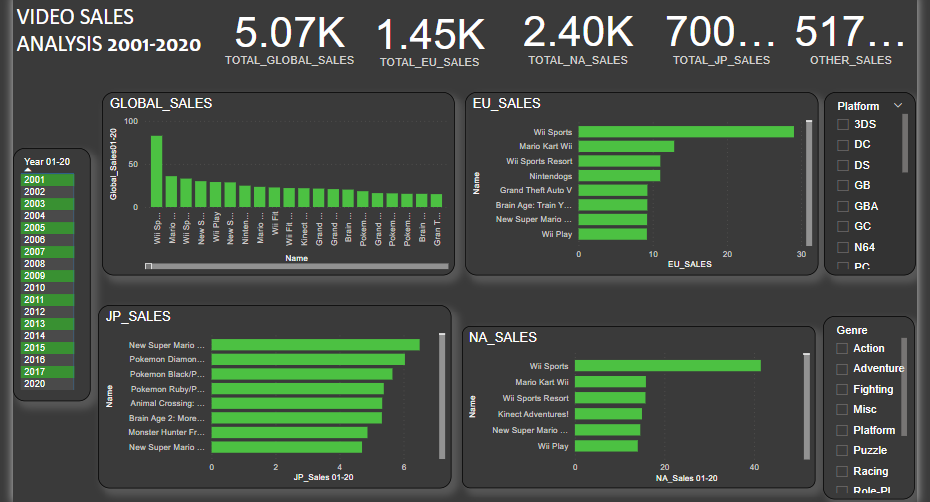

This screenshot's page, from the dashboard's own definition file:
{"tool":"powerbi","page":{"name":"sales2001-2020","canvas":[1280,720],"ordinal":1},"visuals":[{"type":"card","fields":{"Values":["Sum(vgsales2001-2020.EU_Sales01-20)"]},"box":[490.5,7.2,200.2,103],"z":0},{"type":"card","fields":{"Values":["Sum(vgsales2001-2020.JP_Sales 01-20)"]},"box":[912.4,0,183.1,110.1],"z":1000},{"type":"card","fields":{"Values":["Sum(vgsales2001-2020.NA_Sales 01-20)"]},"box":[690.8,0,221.7,110.1],"z":2000},{"type":"card","fields":{"Values":["Sum(vgsales2001-2020.Other_Sales 01-20)"]},"box":[1095.5,0,184.5,110.1],"z":3000},{"type":"card","fields":{"Values":["Sum(vgsales2001-2020.Global_Sales01-20)"]},"box":[291.8,0,200.2,111.6],"z":4000},{"type":"pivotTable","fields":{"Rows":["vgsales2001-2020.Year 01-20"]},"box":[0,217.4,110,359],"z":5000},{"type":"barChart","title":"EU_SALES ","fields":{"Category":["vgsales2001-2020.Name"],"Y":["Sum(vgsales2001-2020.EU_Sales01-20)"]},"box":[640.7,137.3,500.6,260.3],"z":6000},{"type":"clusteredColumnChart","title":" GLOBAL_SALES","fields":{"Category":["vgsales2001-2020.Name"],"Y":["Sum(vgsales2001-2020.Global_Sales01-20)"]},"box":[125.9,137.3,500,260],"z":7000},{"type":"barChart","title":"JP_SALES","fields":{"Category":["vgsales2001-2020.Name"],"Y":["Sum(vgsales2001-2020.JP_Sales 01-20)"]},"box":[120.1,439.1,500.6,260.3],"z":8000},{"type":"barChart","title":"NA_SALES","fields":{"Y":["Sum(vgsales2001-2020.NA_Sales 01-20)"],"Category":["vgsales2001-2020.Name"]},"box":[636.4,469.1,500.6,230.3],"z":9000},{"type":"slicer","fields":{"Values":["vgsales2001-2020.Platform"]},"box":[1149.9,137.3,130.1,260.3],"z":10000},{"type":"slicer","fields":{"Values":["vgsales2001-2020.Genre"]},"box":[1148.4,454.8,130.1,260.3],"z":11000},{"type":"textbox","box":[0,5.7,291.8,105.8],"z":12000}]}

Visuals, with their boxes on the page's 1280x720 design canvas (x1, y1, x2, y2). These are canvas units, not pixel positions in the 930x502 screenshot, which may show the page scaled, cropped or inside an application window:
card - Sum(vgsales2001-2020.EU_Sales01-20): (x1=490, y1=7, x2=691, y2=110)
card - Sum(vgsales2001-2020.JP_Sales 01-20): (x1=912, y1=0, x2=1096, y2=110)
card - Sum(vgsales2001-2020.NA_Sales 01-20): (x1=691, y1=0, x2=912, y2=110)
card - Sum(vgsales2001-2020.Other_Sales 01-20): (x1=1096, y1=0, x2=1280, y2=110)
card - Sum(vgsales2001-2020.Global_Sales01-20): (x1=292, y1=0, x2=492, y2=112)
pivotTable - vgsales2001-2020.Year 01-20: (x1=0, y1=217, x2=110, y2=576)
"EU_SALES " barChart: (x1=641, y1=137, x2=1141, y2=398)
" GLOBAL_SALES" clusteredColumnChart: (x1=126, y1=137, x2=626, y2=397)
"JP_SALES" barChart: (x1=120, y1=439, x2=621, y2=699)
"NA_SALES" barChart: (x1=636, y1=469, x2=1137, y2=699)
slicer - vgsales2001-2020.Platform: (x1=1150, y1=137, x2=1280, y2=398)
slicer - vgsales2001-2020.Genre: (x1=1148, y1=455, x2=1278, y2=715)
textbox: (x1=0, y1=6, x2=292, y2=112)
